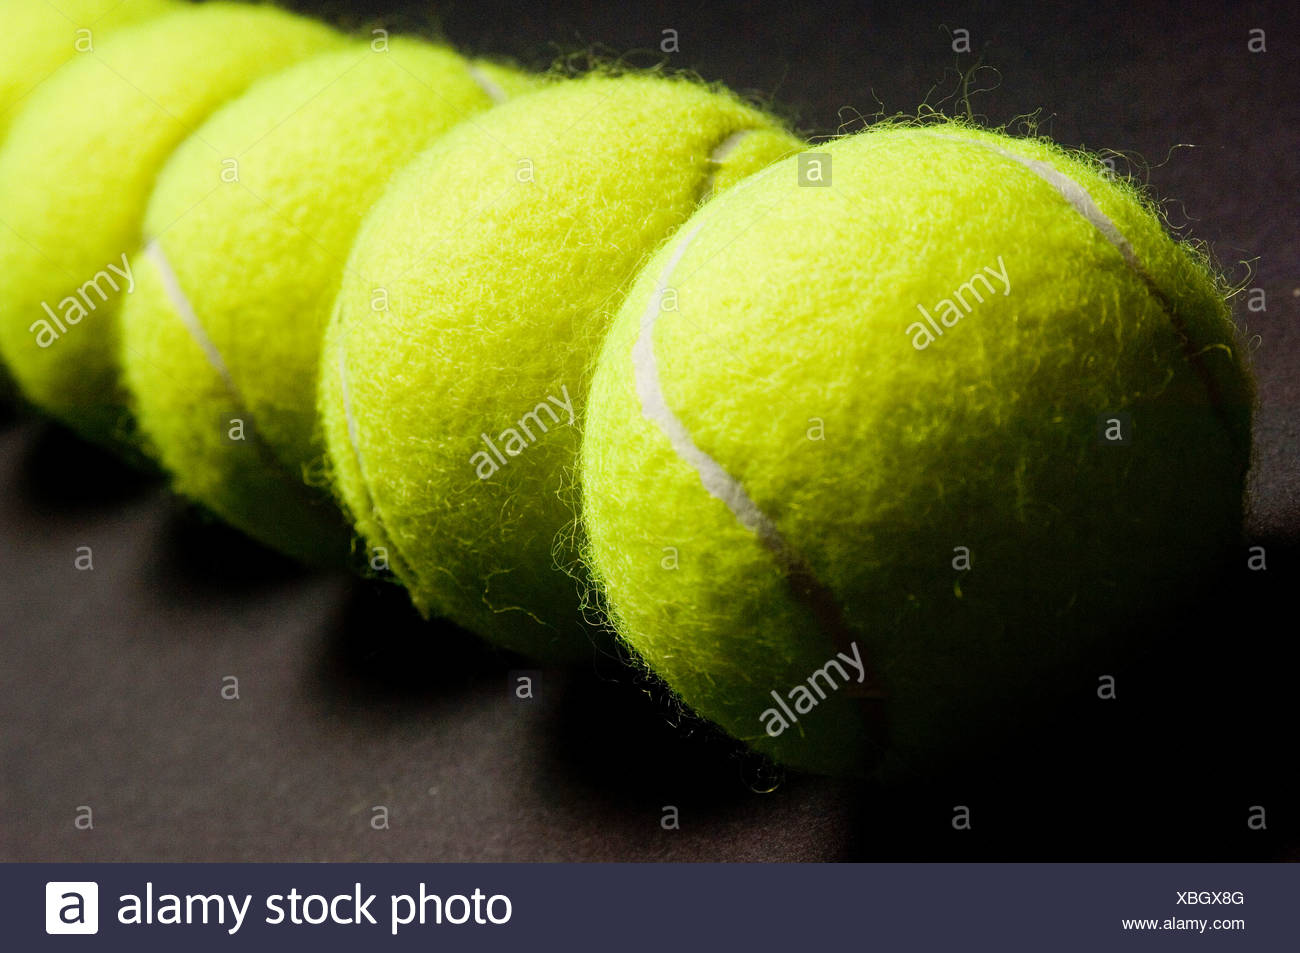tennis_ball: (558, 120, 1259, 795), (320, 84, 792, 643), (119, 39, 506, 589)
